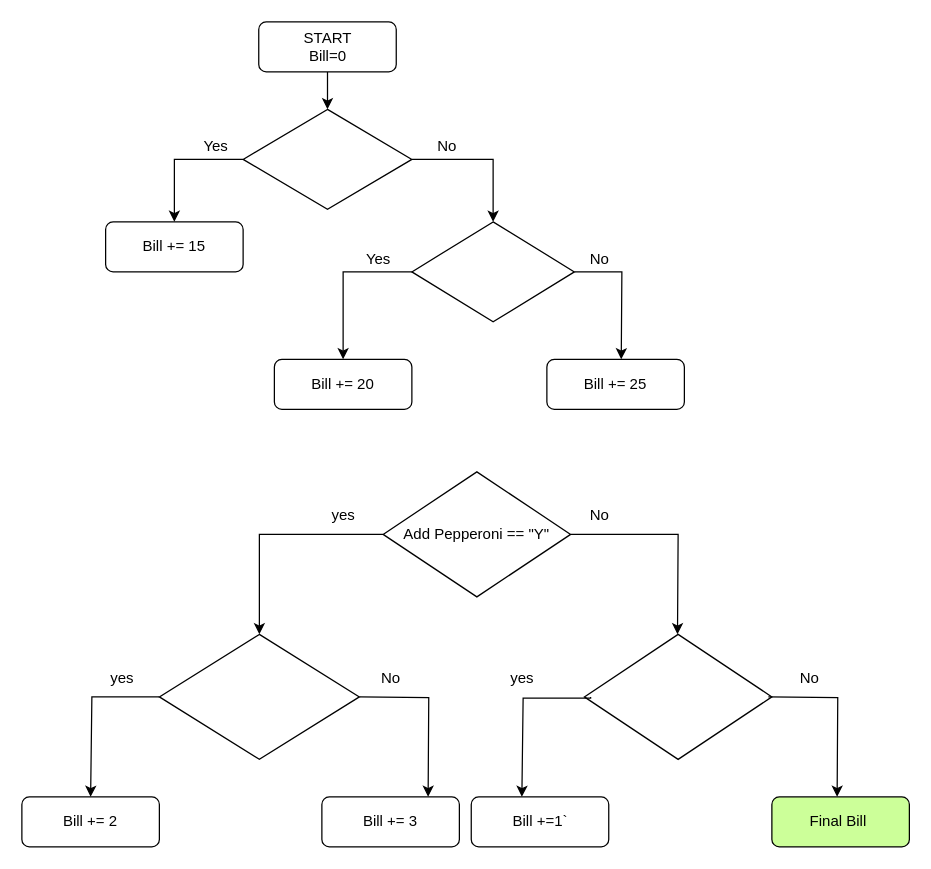
Image size: 931x869. Some labels were removed from this diagram. The box of each missing label's shape, as (x1, y1, x2, y2) in pixels:
Extra Cheese == "Y": (583, 633, 772, 759)
Size == "M": (411, 221, 574, 322)
Size == "S": (242, 108, 412, 209)
Size =="S": (158, 633, 359, 759)
